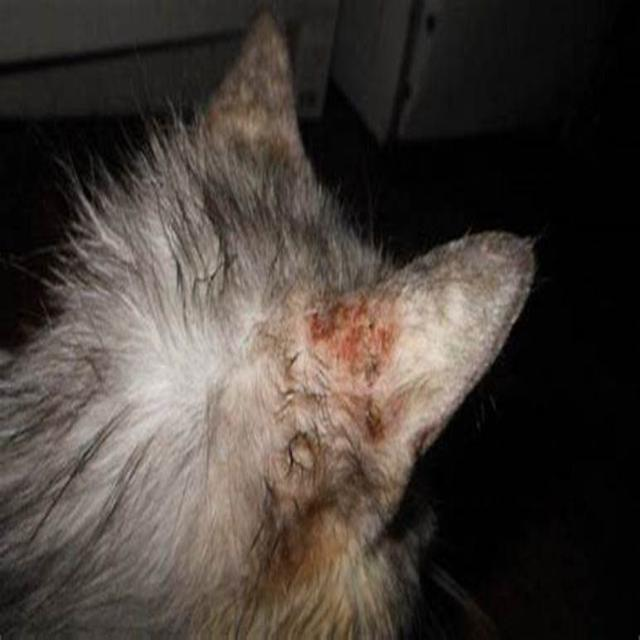ringworm: (302, 299, 394, 445)
